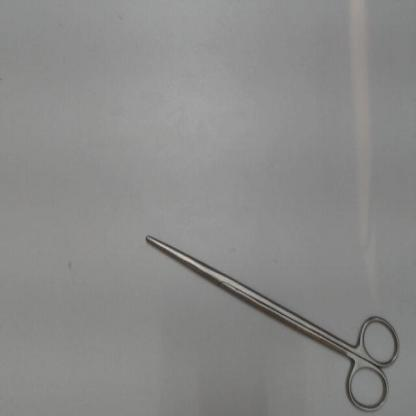9 Metzenbaum Scissors: (143, 233, 405, 414)
